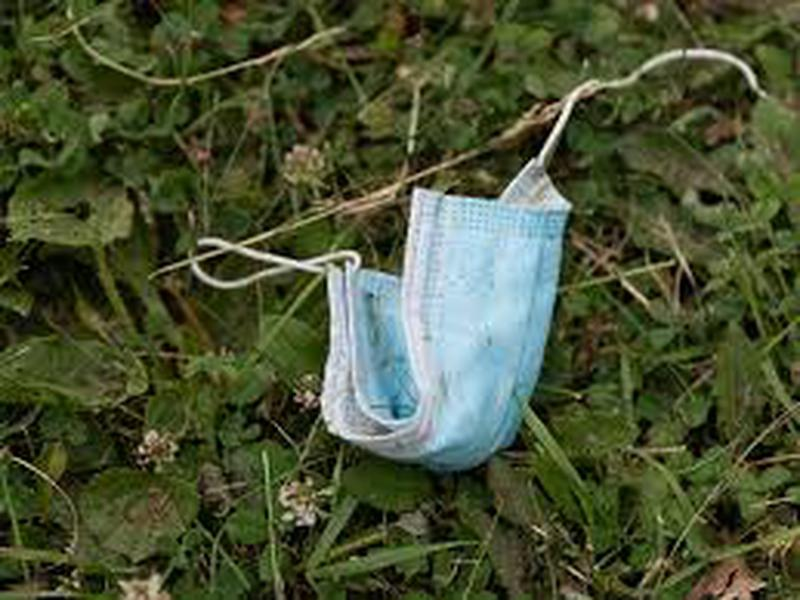mask: (186, 41, 768, 478)
